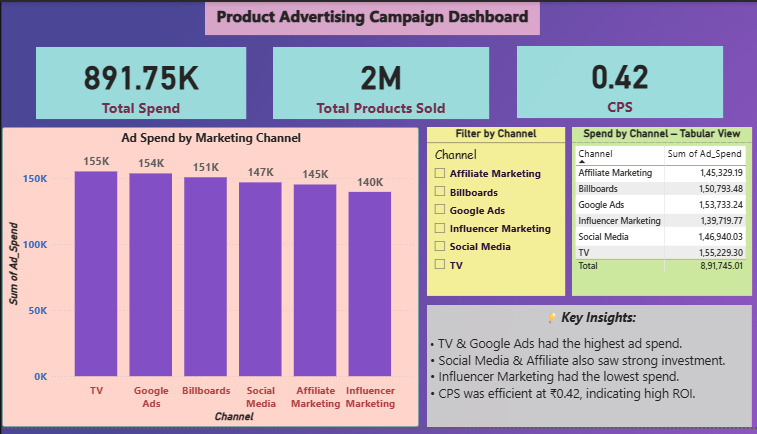

Layout of this report page (visuals, bound fields, positions):
{"tool":"powerbi","page":{"name":"Page 1","canvas":[1280,720],"ordinal":0},"visuals":[{"type":"card","fields":{"Values":["Advertising_Data.Total Products Sold"]},"box":[458.8,76.2,365.7,121.9],"z":0},{"type":"card","fields":{"Values":["Advertising_Data.Total Spend"]},"box":[57.6,76.2,355.6,121.9],"z":1},{"type":"card","fields":{"Values":["Advertising_Data.CPS"]},"box":[872,74.5,348.8,121.9],"z":2},{"type":"columnChart","title":"Ad Spend by Marketing Channel","fields":{"Category":["AdSpendByChannel.Channel"],"Y":["Sum(AdSpendByChannel.Ad_Spend)"]},"box":[0,211.6,706,507.9],"z":3},{"type":"tableEx","title":"Spend by Channel – Tabular View","fields":{"Values":["AdSpendByChannel.Channel","Sum(AdSpendByChannel.Ad_Spend)"]},"box":[965.1,211.6,304.8,286.1],"z":4},{"type":"slicer","title":"Filter by Channel","fields":{"Values":["AdSpendByChannel.Channel"]},"box":[719.6,211.6,233.7,286.1],"z":5},{"type":"textbox","box":[343.7,0,567.2,55.9],"z":6},{"type":"textbox","box":[719.6,513,550.3,206.6],"z":7}]}

Visuals, with their boxes in screenshot pixels (x1, y1, x2, y2), scaled from the page's 1280x720 canvas onto the 757x434 screenshot:
card - Advertising_Data.Total Products Sold: (271,46,488,119)
card - Advertising_Data.Total Spend: (34,46,244,119)
card - Advertising_Data.CPS: (516,45,722,118)
"Ad Spend by Marketing Channel" columnChart: (0,128,418,433)
"Spend by Channel – Tabular View" tableEx: (571,128,751,300)
"Filter by Channel" slicer: (426,128,564,300)
textbox: (203,0,539,34)
textbox: (426,309,751,433)
